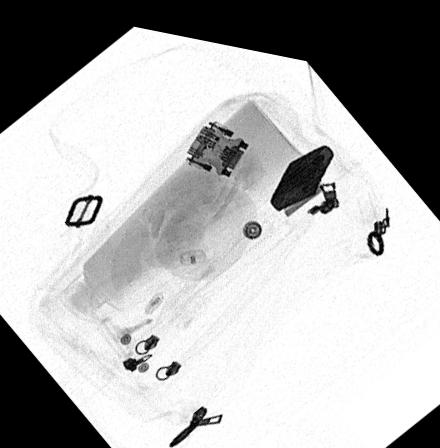Lighter: (270, 130, 336, 200)
